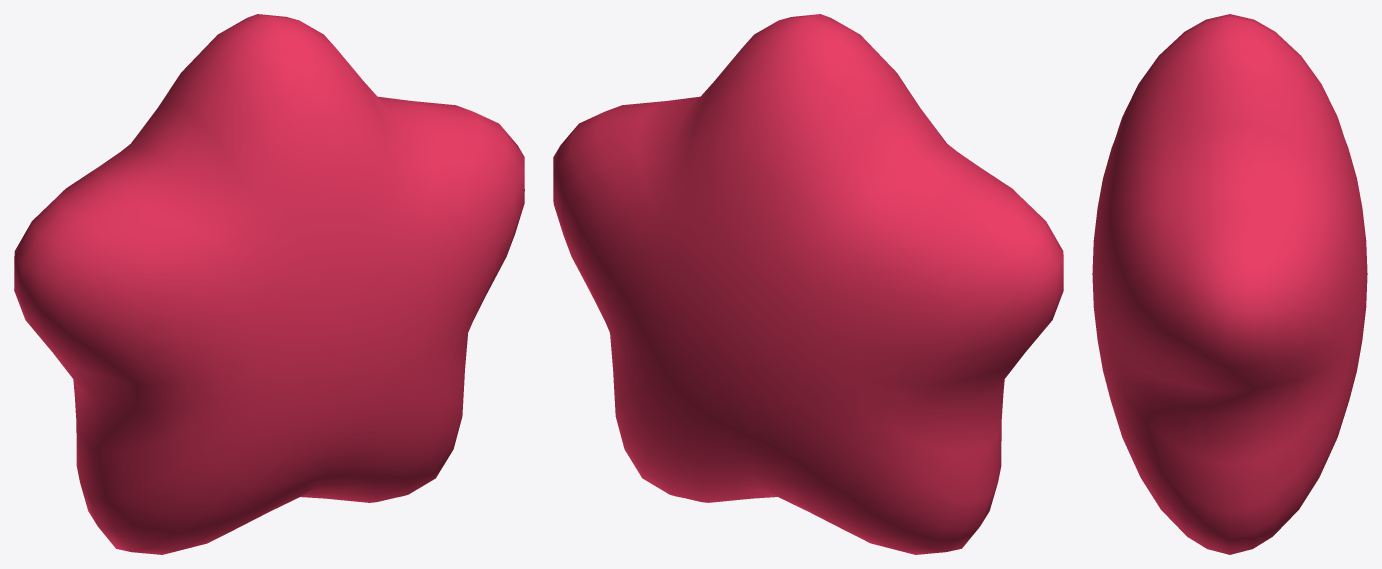
File: StarBubble.fbx
3 views of the same model, side by side, from view 1: azimuth 30°, elevation 25°; view 2: azimuth 150°, elevation 25°; view 3: azimuth 270°, elevation 25° (orthographic). The views are drawn at different scales.
Visible parts, largest first — view 1: StarBubble; view 2: StarBubble; view 3: StarBubble.
Part boxes in pixels (x1,y1,x2,y2): StarBubble: [14, 14, 524, 554]; StarBubble: [553, 14, 1063, 554]; StarBubble: [1092, 14, 1367, 554].
Size of the model in its own units: 99 by 96.04 by 50.32.
